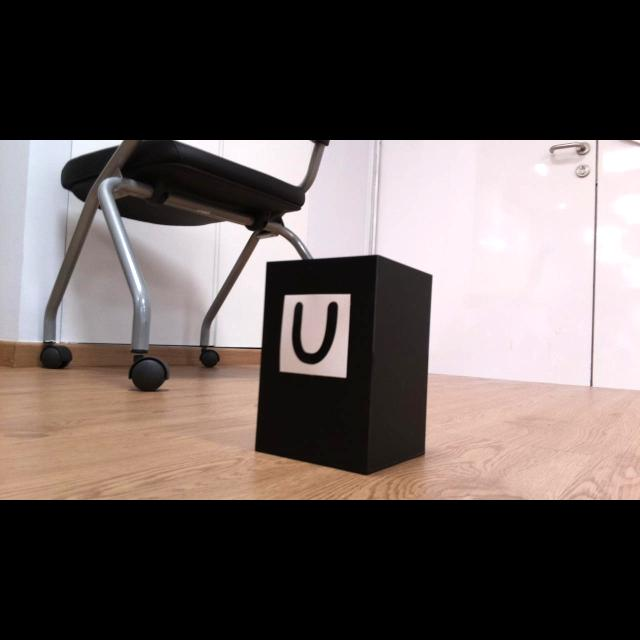U: (292, 301, 338, 365)
